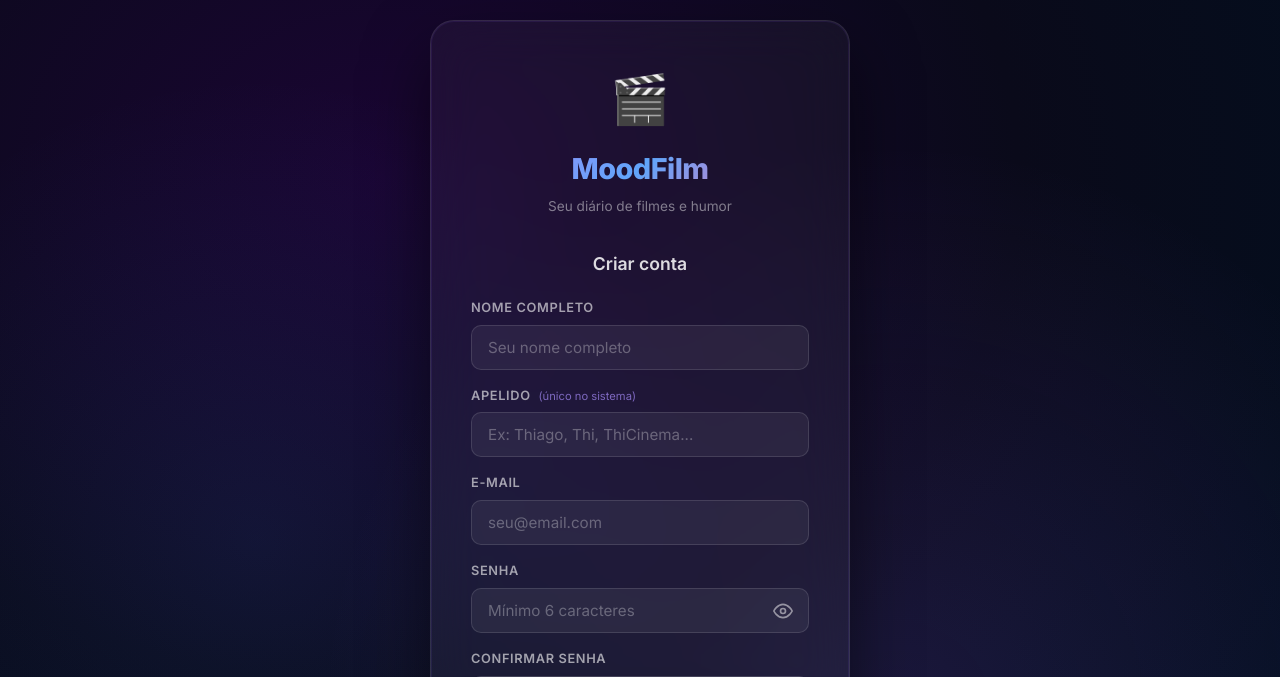
Test case: Register Page Component › deve alertar se a senha tiver menos de 6 caracteres
Type "Thiago Silva" into the field labelled "Nome completo" at x=640, y=347, box [471,325,809,370]
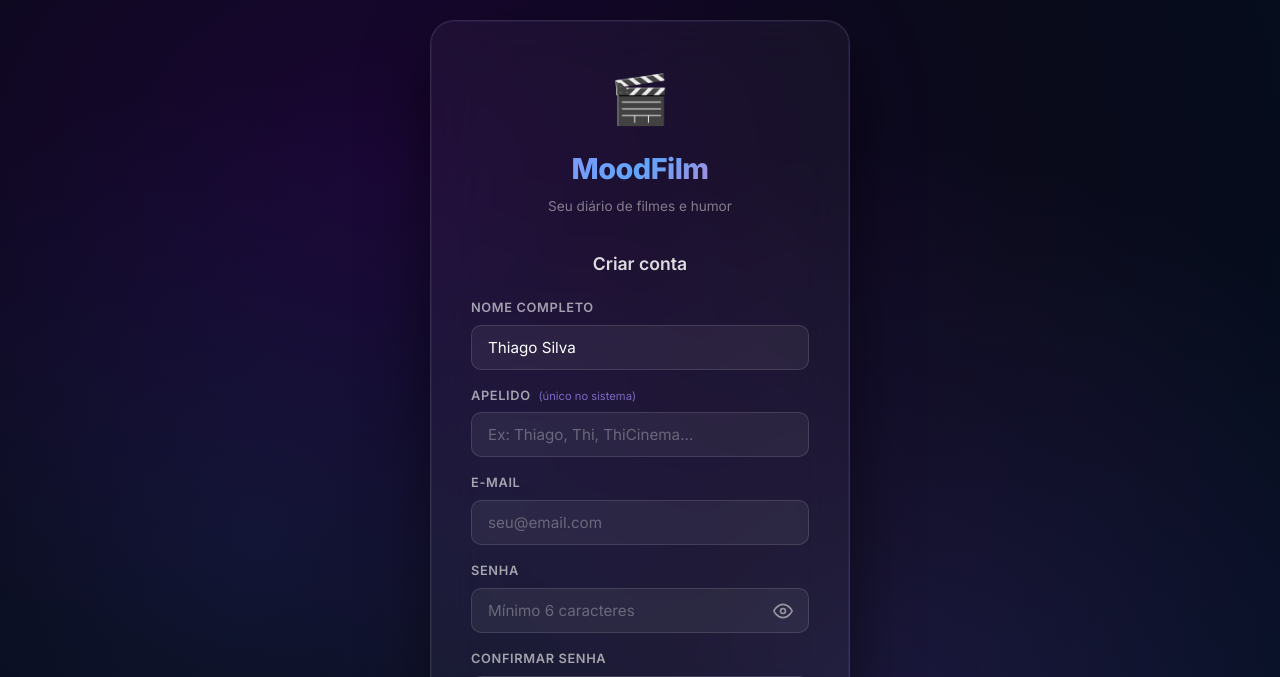
Type "thiagocine" into the field labelled "Apelido (único no sistema)" at x=640, y=435, box [471,412,809,458]
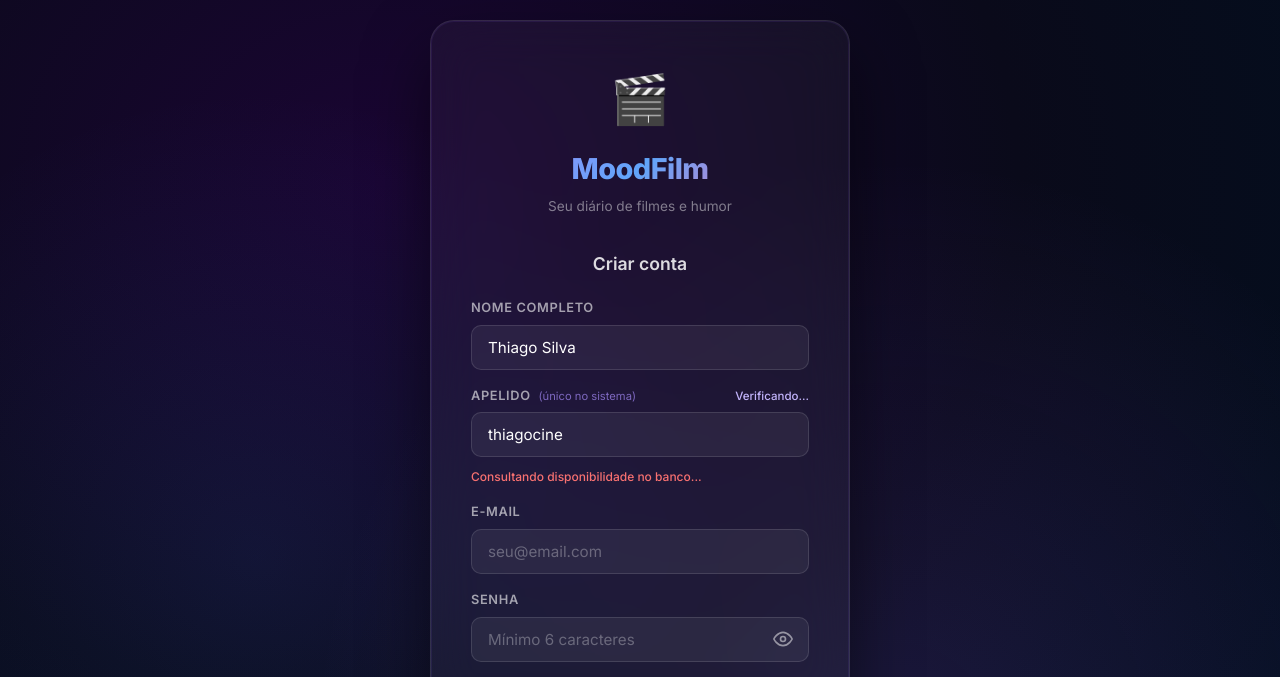
Type "thiago@teste.com" into the field labelled "E-mail" at x=640, y=552, box [471,529,809,574]
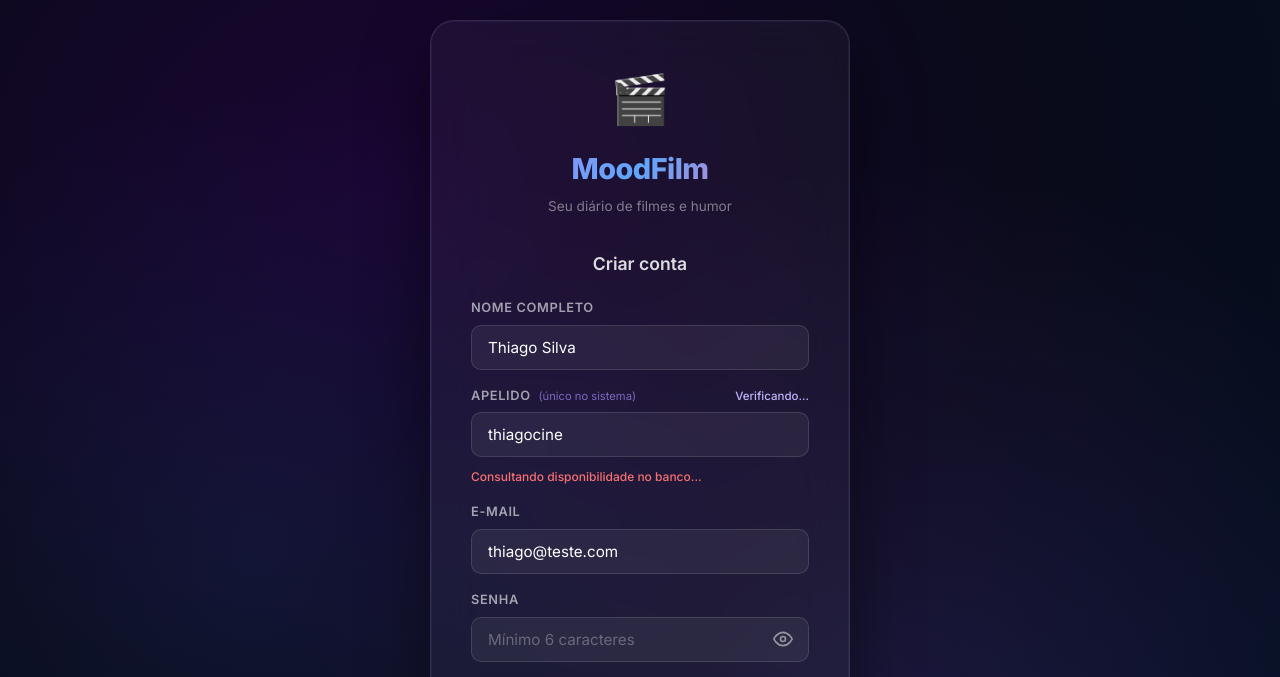
Type "123" into the password field labelled "Senha" at x=640, y=640, box [471,617,809,662]
(page scrolled)
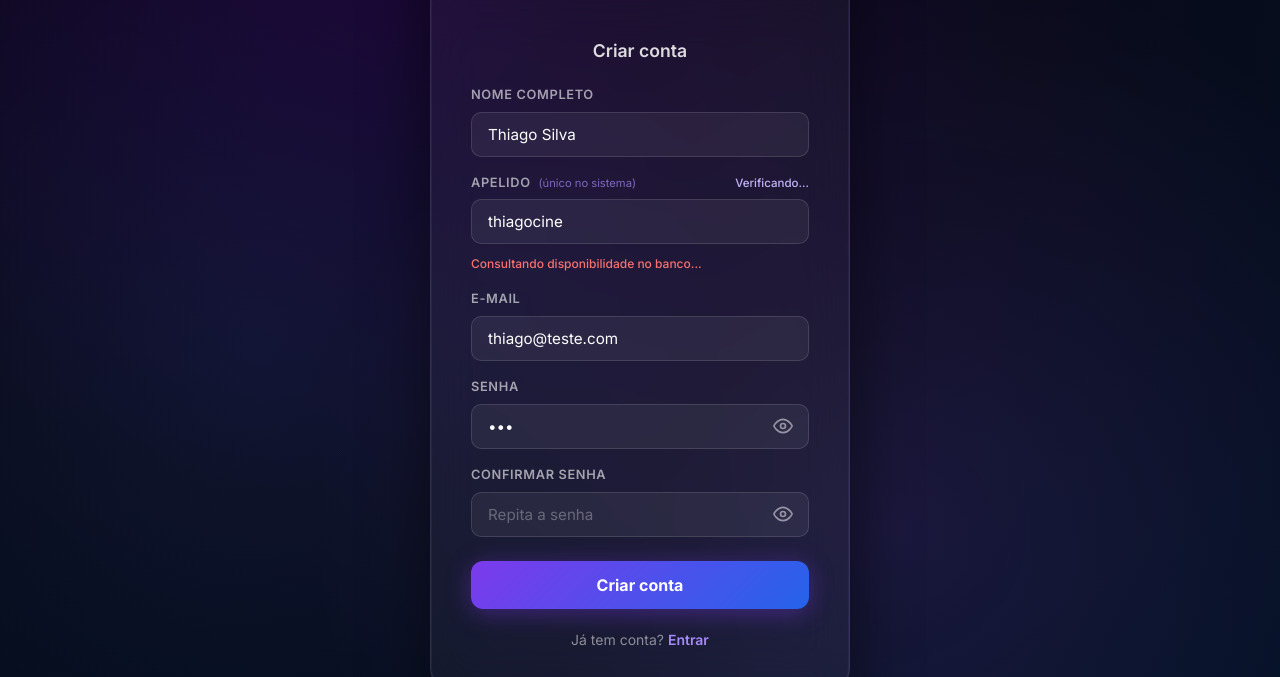
Type "123" into the password field labelled "Confirmar senha" at x=640, y=514, box [471,492,809,537]
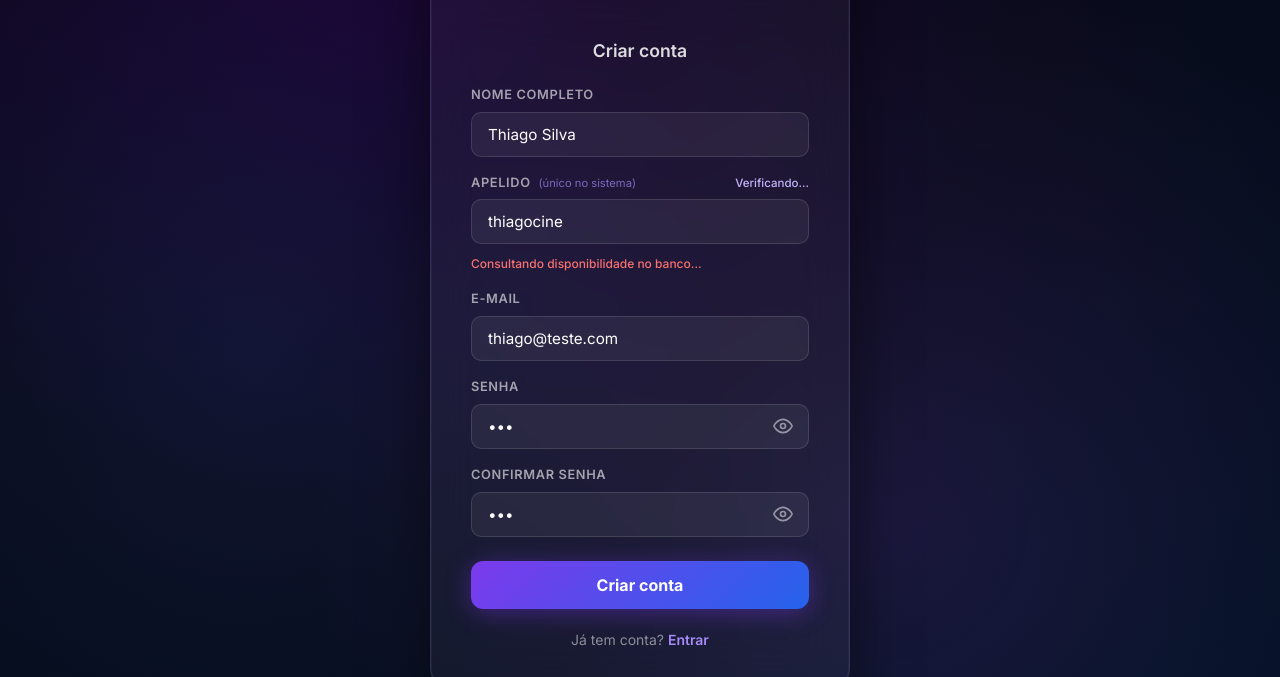
Submit the form named "Criar conta", box [471,85,809,609]
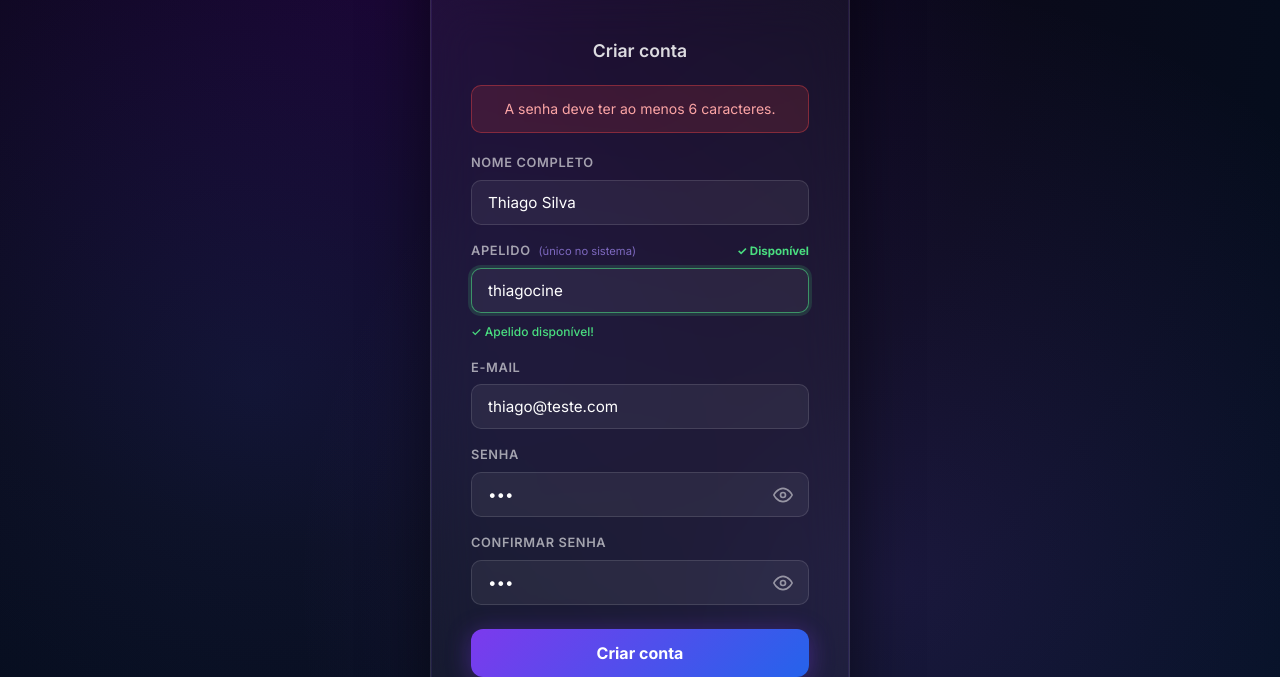
Check: the text "A senha deve ter ao menos 6 caracteres." is shown, box [471,85,809,133]
